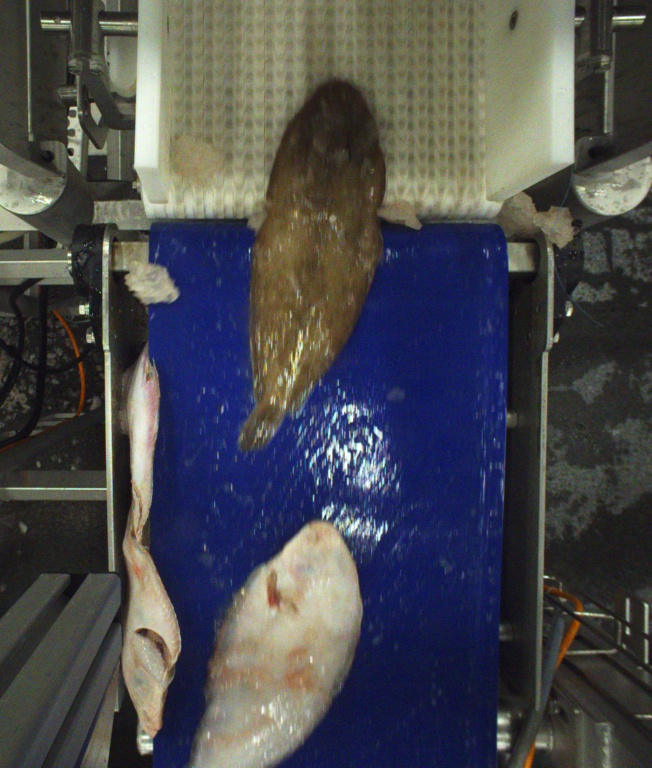SOL: (239, 77, 388, 449)
